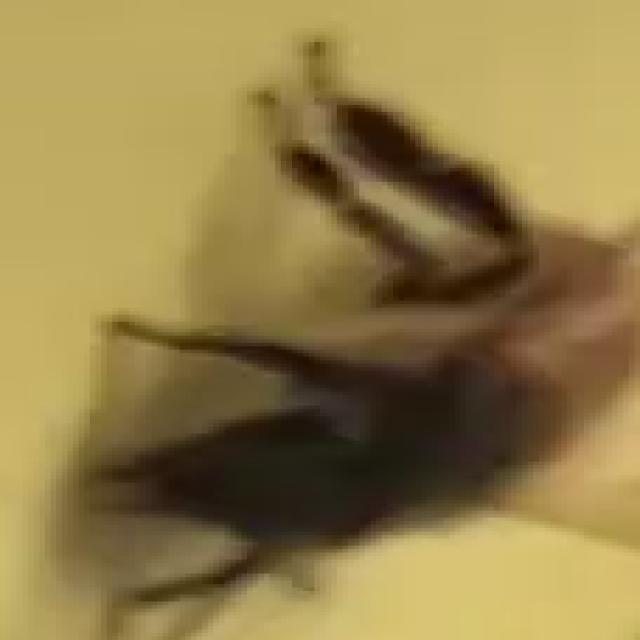honeybee: (136, 90, 579, 639)
